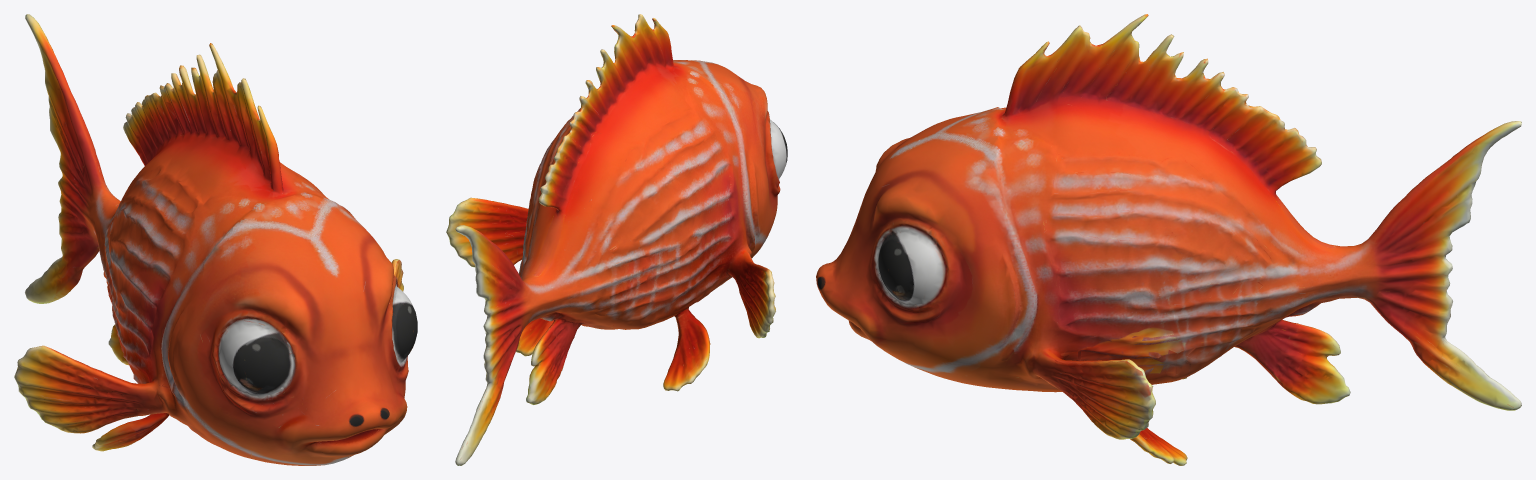
File: squirrelfish.glb
3 renders of one model, left to right at view 1: azimuth 30°, elevation 25°; view 2: azimuth 150°, elevation 25°; view 3: azimuth 270°, elevation 25°, orthographic. The views are drawn at different scales.
Bounding box in the file's own units: 1.24 × 1.22 × 1.92.
Materials: 1 (1 with a texture image).
